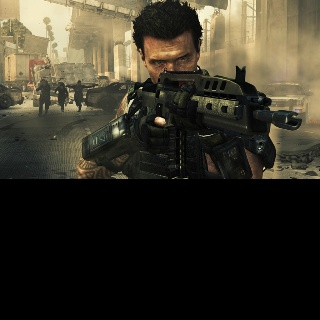without_mask: (41, 81, 45, 85), (60, 85, 63, 88), (78, 82, 81, 85)
